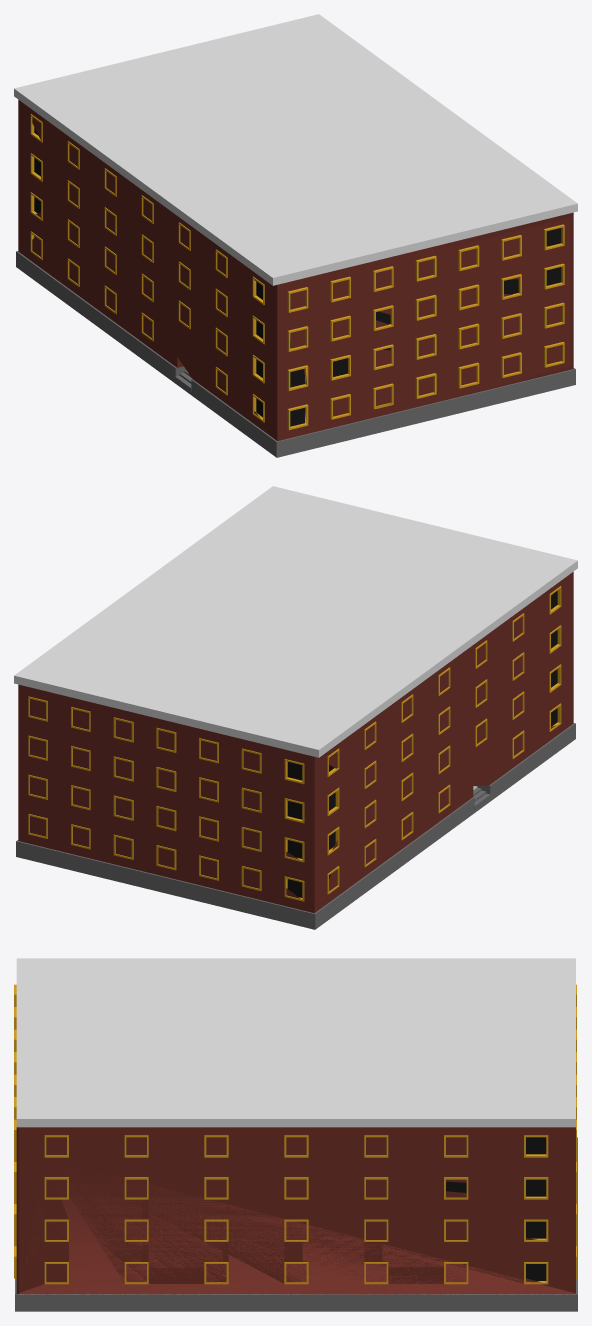
The picture shows the model from 3 angles, top to bottom: view 1: azimuth 30°, elevation 25°; view 2: azimuth 150°, elevation 25°; view 3: azimuth 270°, elevation 25°; orthographic projection. The views are drawn at different scales.
Parts seen in each view (by area): view 1: BD30_F04_01; view 2: BD30_F04_01; view 3: BD30_F04_01.
Part boxes in pixels (x1,y1,x2,y2): BD30_F04_01: (14,14,577,457); BD30_F04_01: (14,486,577,929); BD30_F04_01: (14,958,577,1311).
Bounding box in the file's own units: 2040 × 1150 × 3025.
